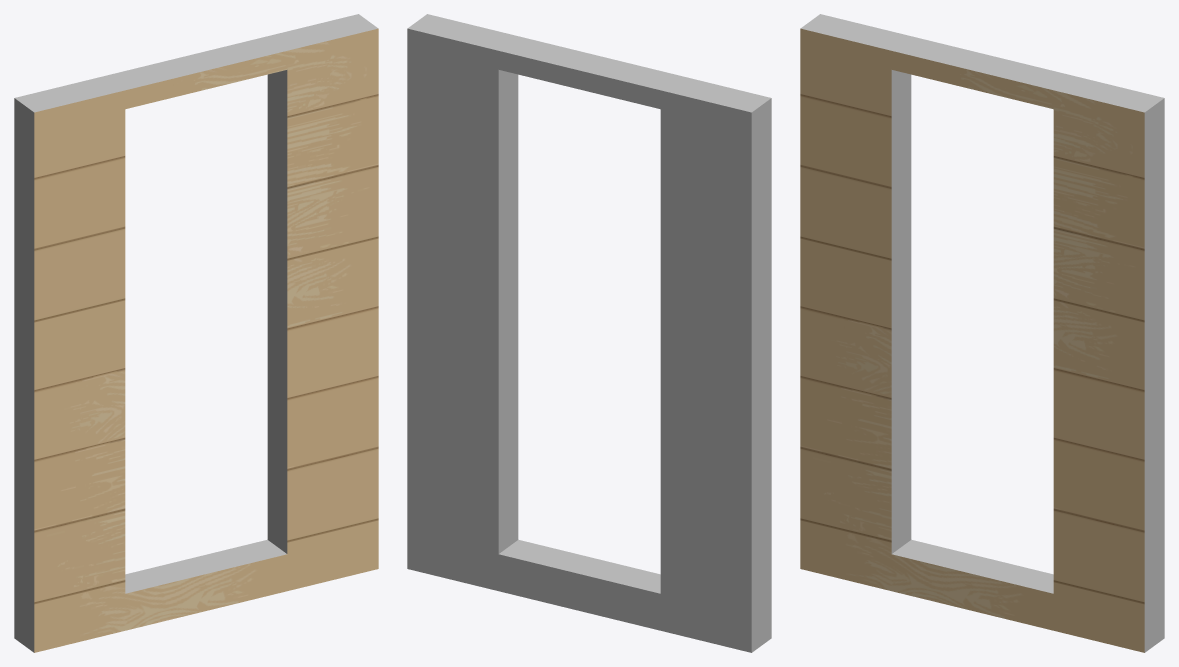
File: Wall Standard Window 5.fbx
3 renders of one model, left to right at view 1: azimuth 30°, elevation 25°; view 2: azimuth 150°, elevation 25°; view 3: azimuth 330°, elevation 25°, orthographic.
Parts seen in each view (by area): view 1: Wall Standard (Window 5); view 2: Wall Standard (Window 5); view 3: Wall Standard (Window 5).
Boxes of the visible parts, left/top/right/bottom form: Wall Standard (Window 5): left=14, top=14, right=378, bottom=652; Wall Standard (Window 5): left=407, top=14, right=771, bottom=652; Wall Standard (Window 5): left=800, top=14, right=1164, bottom=652.
Bounding box in the file's own units: 200 × 300 × 20.
